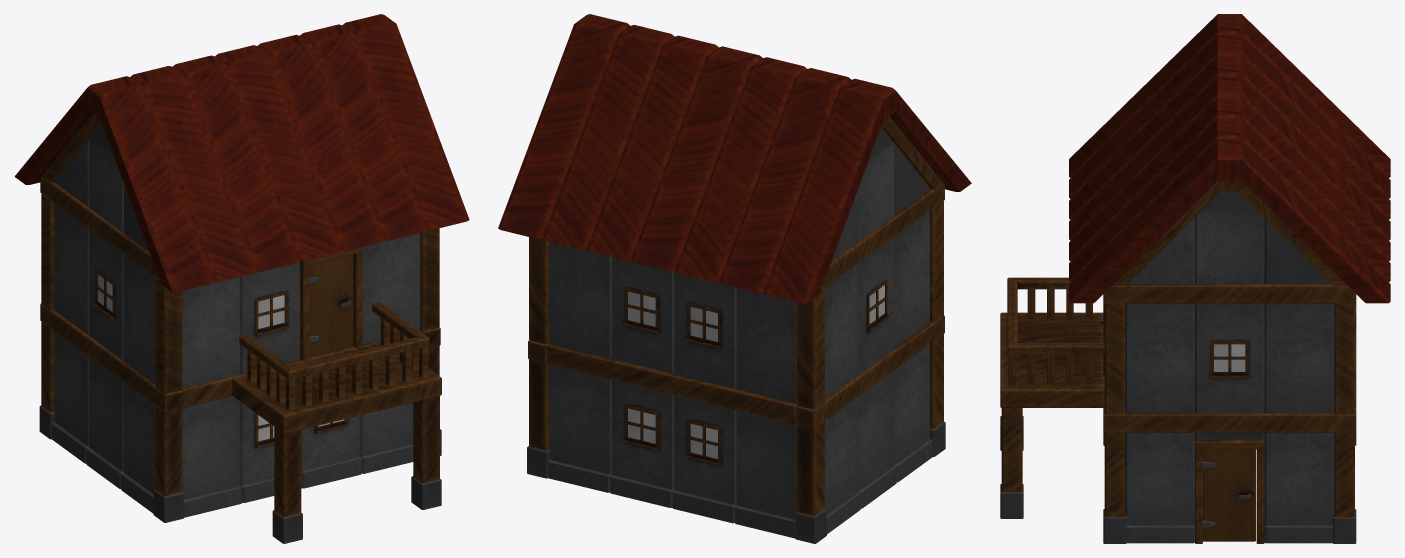
File: House 3.fbx
The picture shows the model from 3 angles, left to right: view 1: azimuth 30°, elevation 25°; view 2: azimuth 150°, elevation 25°; view 3: azimuth 270°, elevation 25°; orthographic projection. The views are drawn at different scales.
Parts seen in each view (by area): view 1: Cube.356, Cube.269, Cube.351, Cube.353, Cube.352, Cube.354, Cube.355, Cube.266, Cube.313, Cube.278, Cube.265, Cube.316 (+36 smaller); view 2: Cube.356, Cube.351, Cube.353, Cube.354, Cube.352, Cube.269, Cube.355, Cube.320, Cube.317, Cube.319, Cube.318, Cube.289 (+31 smaller); view 3: Cube.269, Cube.305, Cube.264, Cube.309, Cube.266, Cube.353, Cube.354, Cube.355, Cube.352, Cube.351, Cube.356, Cube.277 (+21 smaller).
Boxes of the visible parts, <box> form: Cube.356: <box>14,76,214,292</box>; Cube.269: <box>342,14,469,230</box>; Cube.351: <box>300,24,426,240</box>; Cube.353: <box>215,45,341,261</box>; Cube.352: <box>257,34,384,250</box>; Cube.354: <box>172,55,299,271</box>; Cube.355: <box>130,66,256,281</box>; Cube.266: <box>232,342,441,433</box>; Cube.313: <box>182,277,240,388</box>; Cube.278: <box>182,396,240,499</box>; Cube.265: <box>240,261,300,373</box>; Cube.316: <box>362,233,420,344</box>; Cube.356: <box>763,78,971,303</box>; Cube.351: <box>542,25,674,249</box>; Cube.353: <box>630,46,762,271</box>; Cube.354: <box>675,57,806,282</box>; Cube.352: <box>586,35,718,260</box>; Cube.269: <box>498,14,630,238</box>; Cube.355: <box>719,68,851,292</box>; Cube.320: <box>612,257,674,373</box>; Cube.317: <box>674,271,736,388</box>; Cube.319: <box>549,242,611,358</box>; Cube.318: <box>736,288,796,403</box>; Cube.289: <box>612,380,674,489</box>; Cube.269: <box>1069,139,1390,303</box>; Cube.305: <box>1264,304,1334,413</box>; Cube.264: <box>1125,304,1194,413</box>; Cube.309: <box>1195,304,1264,413</box>; Cube.266: <box>1000,312,1104,407</box>; Cube.353: <box>1069,76,1390,240</box>; Cube.354: <box>1069,55,1390,219</box>; Cube.355: <box>1069,34,1390,198</box>; Cube.352: <box>1069,97,1390,261</box>; Cube.351: <box>1069,118,1390,282</box>; Cube.356: <box>1069,14,1390,177</box>; Cube.277: <box>1264,432,1334,525</box>.
Size of the model in its own units: 268 by 335 by 303.
